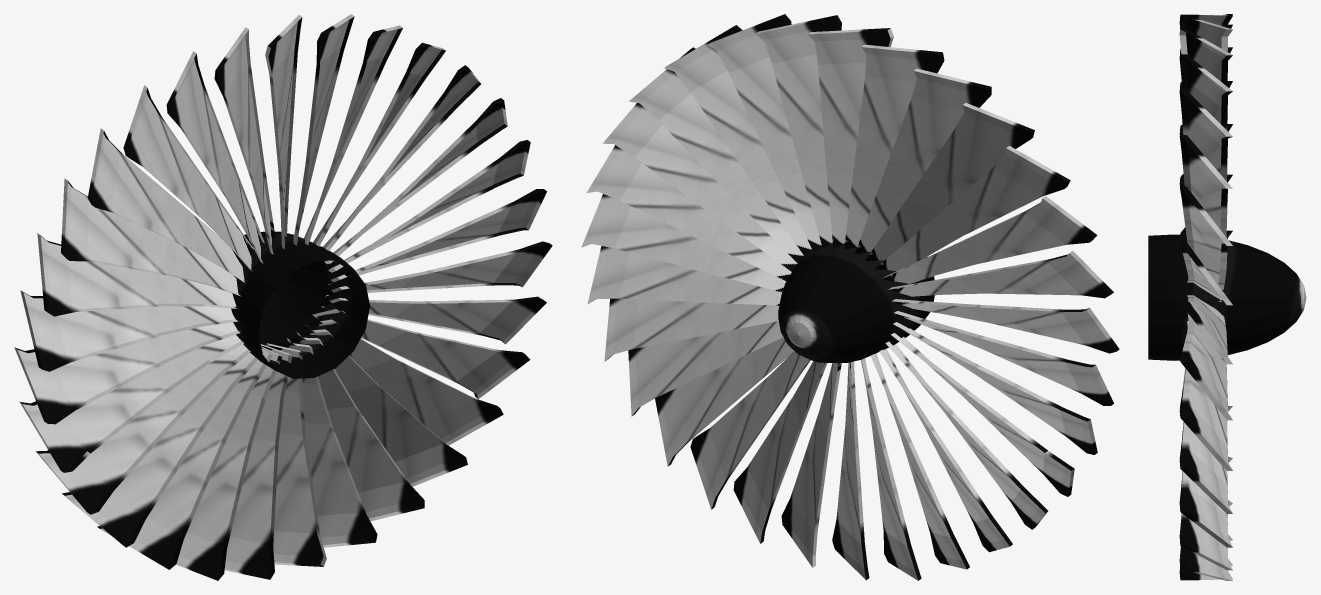
Rendered from erj195_fan_l.obj.
3 renders of one model, left to right at view 1: azimuth 30°, elevation 25°; view 2: azimuth 150°, elevation 25°; view 3: azimuth 270°, elevation 25°, orthographic. The views are drawn at different scales.
Bounding box in the file's own units: 1.41 × 1.41 × 0.3923.
1 material, 1 textured.
